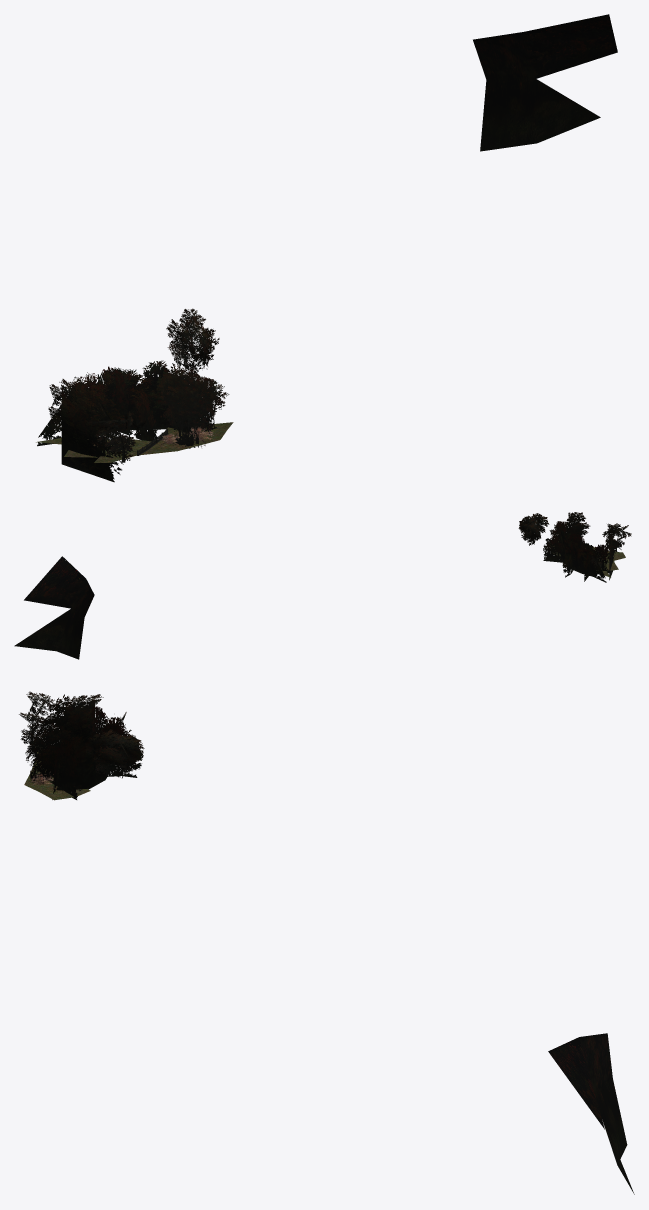
The model's file is cell_8_-8.gltf.
3 views of the same model, one above another, from view 1: azimuth 30°, elevation 25°; view 2: azimuth 150°, elevation 25°; view 3: azimuth 270°, elevation 25° (orthographic). The views are drawn at different scales.
Parts seen in each view (by area): view 1: cell_8_-8; view 2: cell_8_-8; view 3: cell_8_-8.
Part boxes in pixels (x1=…): cell_8_-8: x1=36, y1=14, x2=617, y2=482; cell_8_-8: x1=14, y1=512, x2=631, y2=659; cell_8_-8: x1=19, y1=691, x2=634, y2=1194.
Size of the model in its own units: 279 by 65.04 by 205.
Materials: 13 (13 with a texture image).
